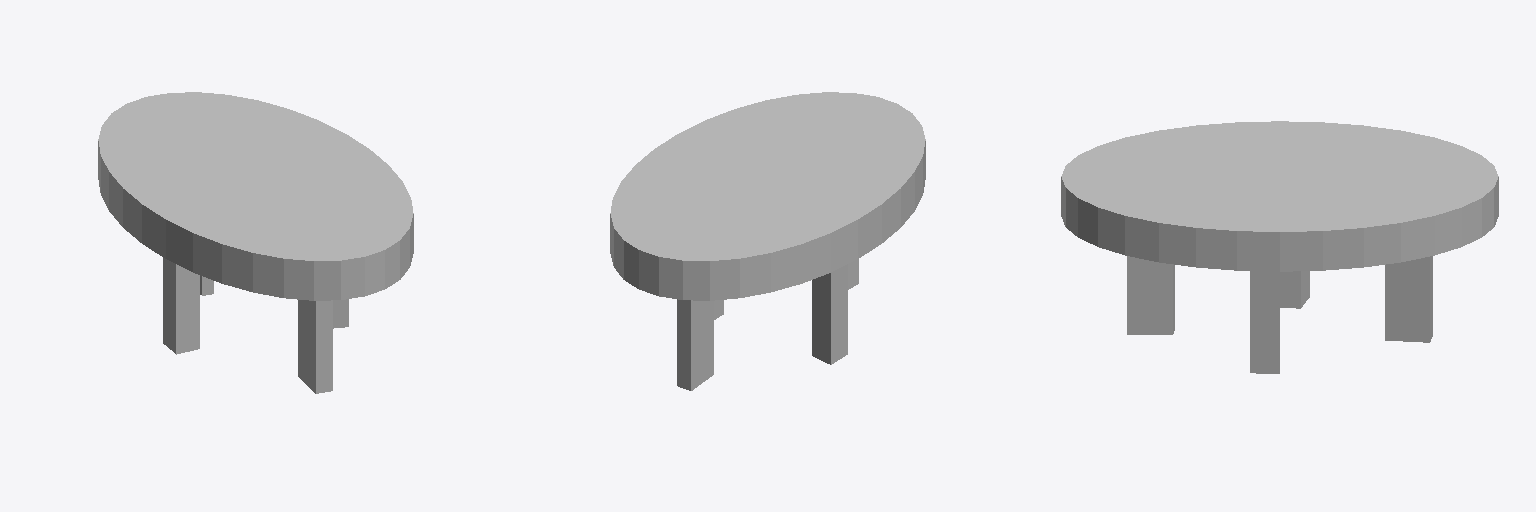
File: стол.obj
3 views of the same model, side by side, from view 1: azimuth 30°, elevation 25°; view 2: azimuth 150°, elevation 25°; view 3: azimuth 270°, elevation 25° (orthographic).
Parts seen in each view (by area): view 1: Цилиндр_Цилиндр.002; view 2: Цилиндр_Цилиндр.002; view 3: Цилиндр_Цилиндр.002.
Part boxes in pixels (bbox=[...]): Цилиндр_Цилиндр.002: bbox=[98, 92, 413, 393]; Цилиндр_Цилиндр.002: bbox=[610, 92, 925, 390]; Цилиндр_Цилиндр.002: bbox=[1061, 121, 1498, 373].
Size of the model in its own units: 12 by 8 by 20.